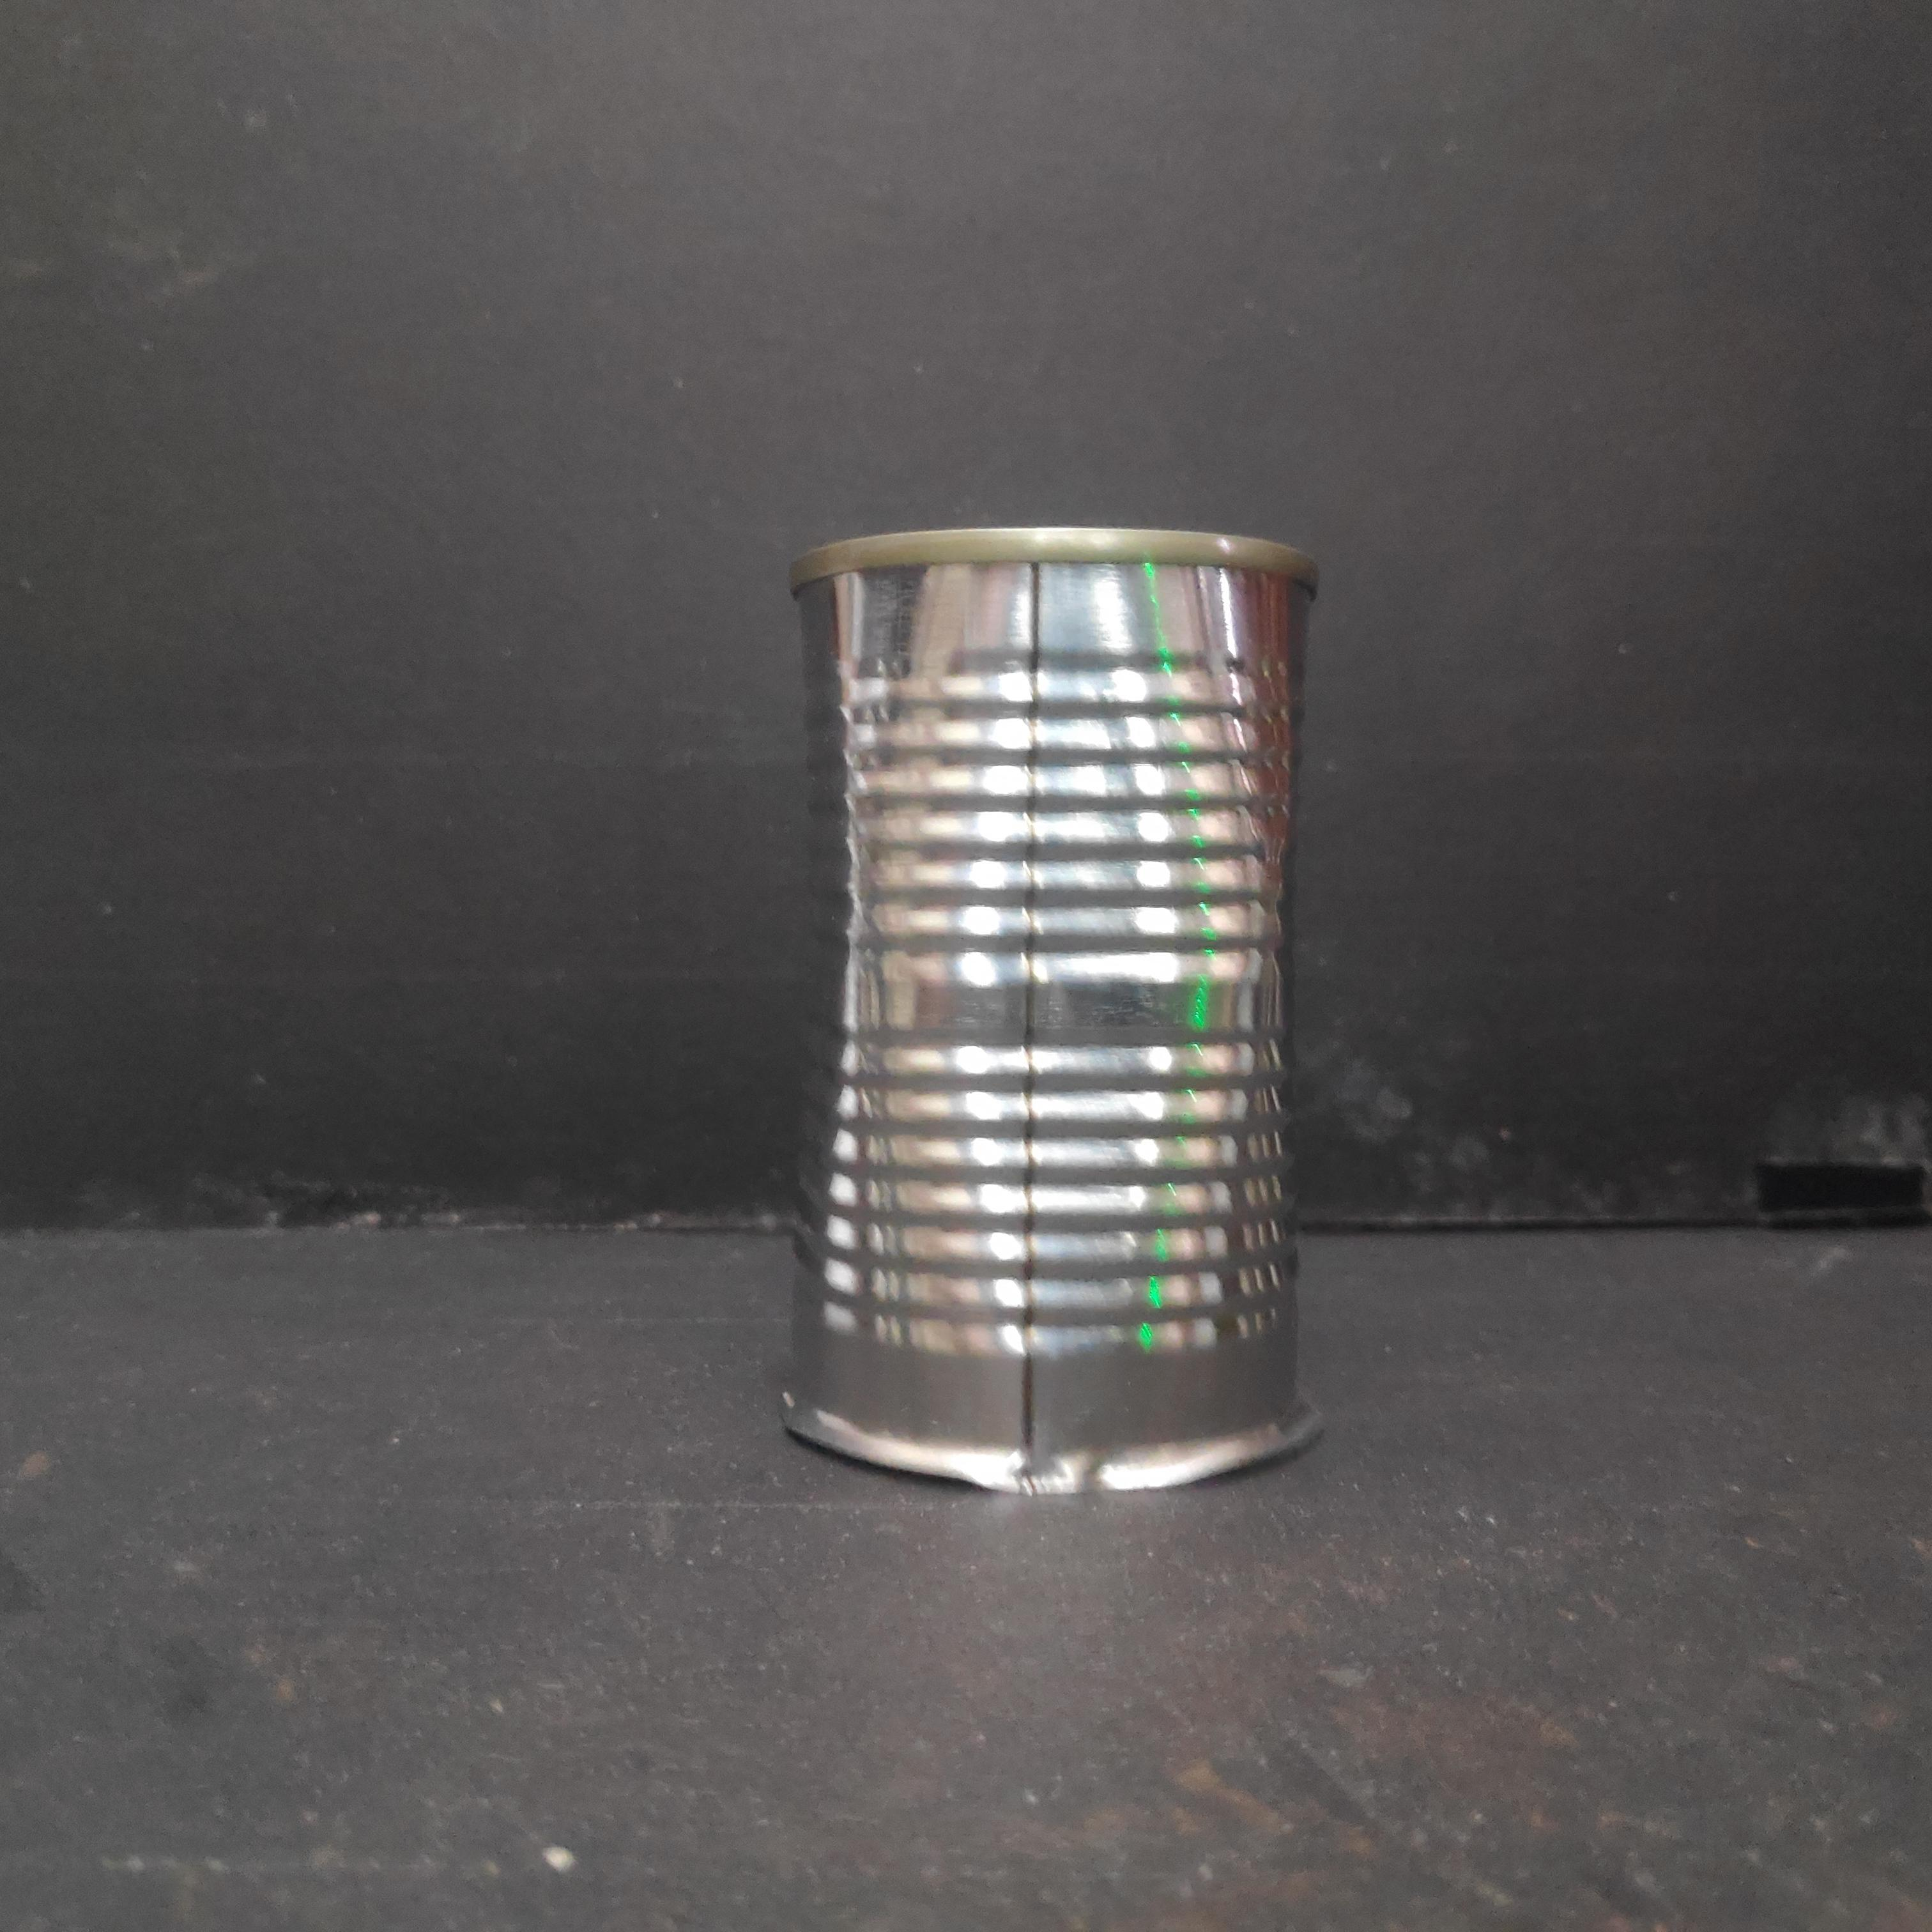Minor Defect: (777, 515, 1336, 1525)
